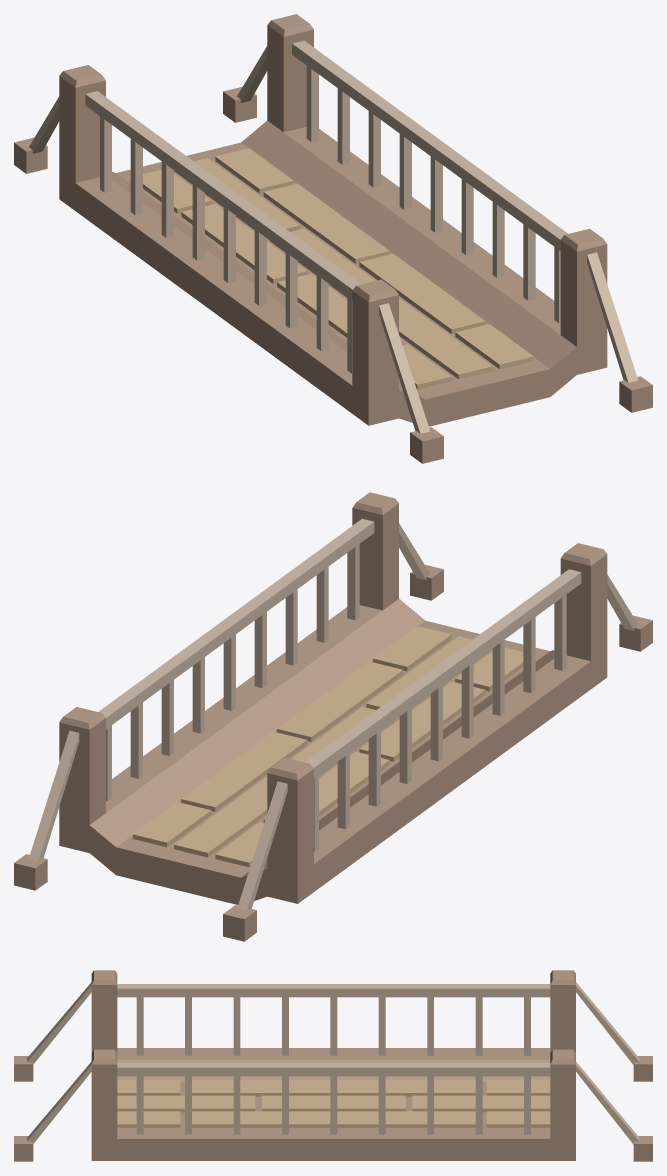
File: Bridge.fbx
The picture shows the model from 3 angles, top to bottom: view 1: azimuth 30°, elevation 25°; view 2: azimuth 150°, elevation 25°; view 3: azimuth 270°, elevation 25°; orthographic projection. The views are drawn at different scales.
Parts seen in each view (by area): view 1: Bridge, Planks; view 2: Bridge, Planks; view 3: Bridge, Planks.
Part boxes in pixels (left/top/right/bottom): Bridge: left=14, top=14, right=652, bottom=463; Planks: left=143, top=148, right=533, bottom=389; Bridge: left=14, top=492, right=652, bottom=941; Planks: left=133, top=626, right=523, bottom=867; Bridge: left=14, top=970, right=652, bottom=1161; Planks: left=117, top=1080, right=550, bottom=1127.
Size of the model in its own units: 445 by 257 by 1320.
